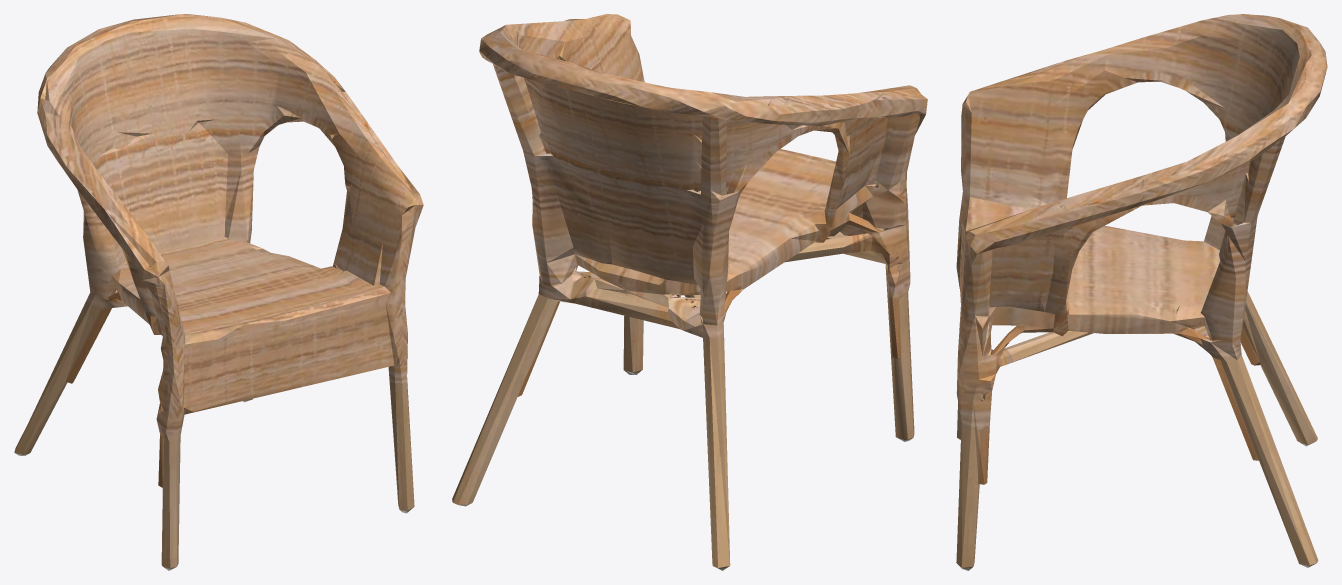
Rendered from 21 - AGEN - 椅子，籐製竹 IKEA 線上購物.glb.
3 views of the same model, side by side, from view 1: azimuth 30°, elevation 25°; view 2: azimuth 150°, elevation 25°; view 3: azimuth 270°, elevation 25° (orthographic). The views are drawn at different scales.
Parts seen in each view (by area): view 1: ProcessedMeshNode; view 2: ProcessedMeshNode; view 3: ProcessedMeshNode.
Boxes of the visible parts, <box> form: ProcessedMeshNode: <box>14,14,423,570</box>; ProcessedMeshNode: <box>452,14,927,570</box>; ProcessedMeshNode: <box>956,14,1327,570</box>.
Bounding box in the file's own units: 0.5891 × 0.8052 × 0.5993.
1 material, 1 textured.
